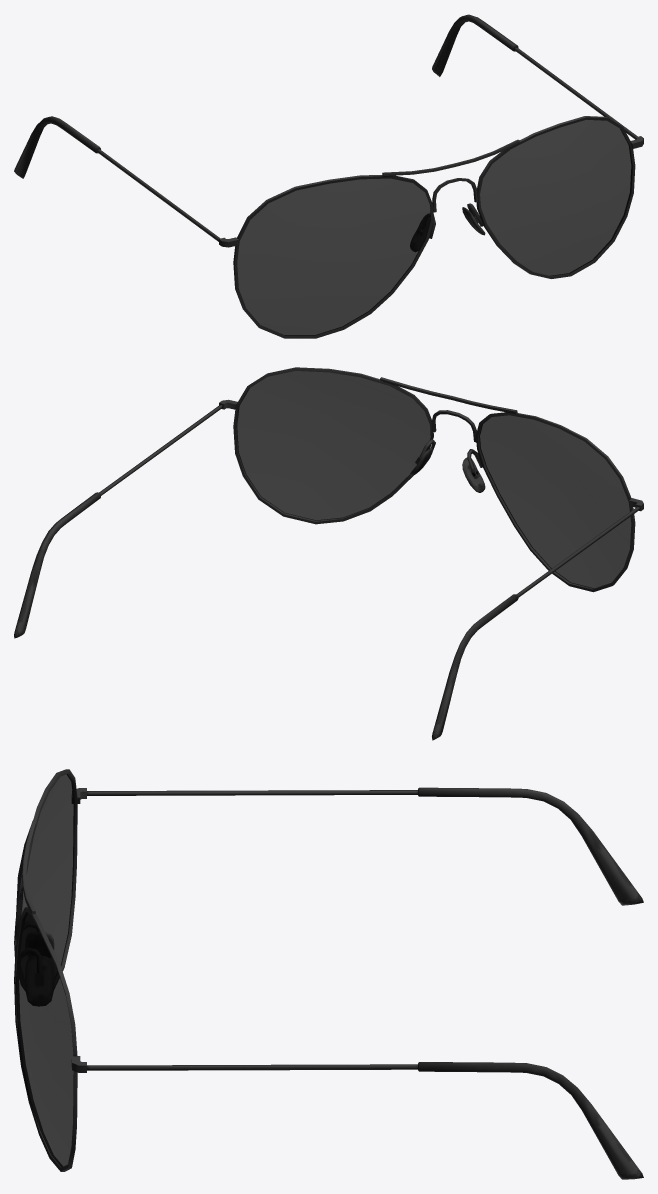
The model's file is glasses5.glb.
3 views of the same model, one above another, from view 1: azimuth 30°, elevation 25°; view 2: azimuth 150°, elevation 25°; view 3: azimuth 270°, elevation 25° (orthographic). The views are drawn at different scales.
Parts seen in each view (by area): view 1: Object_3, Object_2; view 2: Object_3, Object_2; view 3: Object_2, Object_3.
Boxes of the visible parts, <box> form: Object_3: <box>237,120,632,335</box>; Object_2: <box>14,14,643,338</box>; Object_3: <box>237,371,631,588</box>; Object_2: <box>14,367,643,740</box>; Object_2: <box>14,769,643,1179</box>; Object_3: <box>15,774,74,1167</box>.
Size of the model in its own units: 120 by 42.16 by 114.
Materials: 2 (1 with a texture image).
